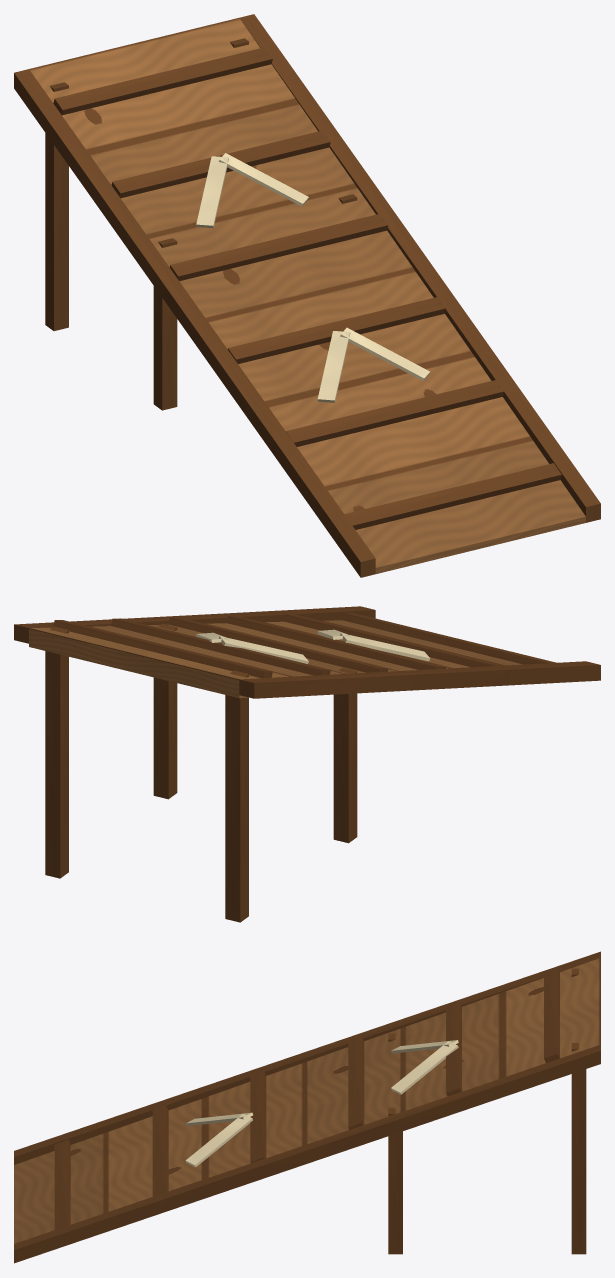
File: prop_ramp.glb
3 renders of one model, top to bottom at view 1: azimuth 30°, elevation 25°; view 2: azimuth 150°, elevation 25°; view 3: azimuth 270°, elevation 25°, orthographic. The views are drawn at different scales.
Parts seen in each view (by area): view 1: prop_ramp; view 2: prop_ramp; view 3: prop_ramp.
Boxes of the visible parts, x1,y1,x2,y2 form: prop_ramp: (14, 14, 600, 577); prop_ramp: (14, 606, 600, 922); prop_ramp: (14, 951, 600, 1263).
Size of the model in its own units: 1.6 by 1.6 by 4.
Materials: 1 (1 with a texture image).
